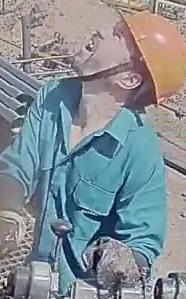gloves: (80, 235, 154, 288)
helmet: (114, 8, 186, 109)
vest: (0, 79, 169, 287)
